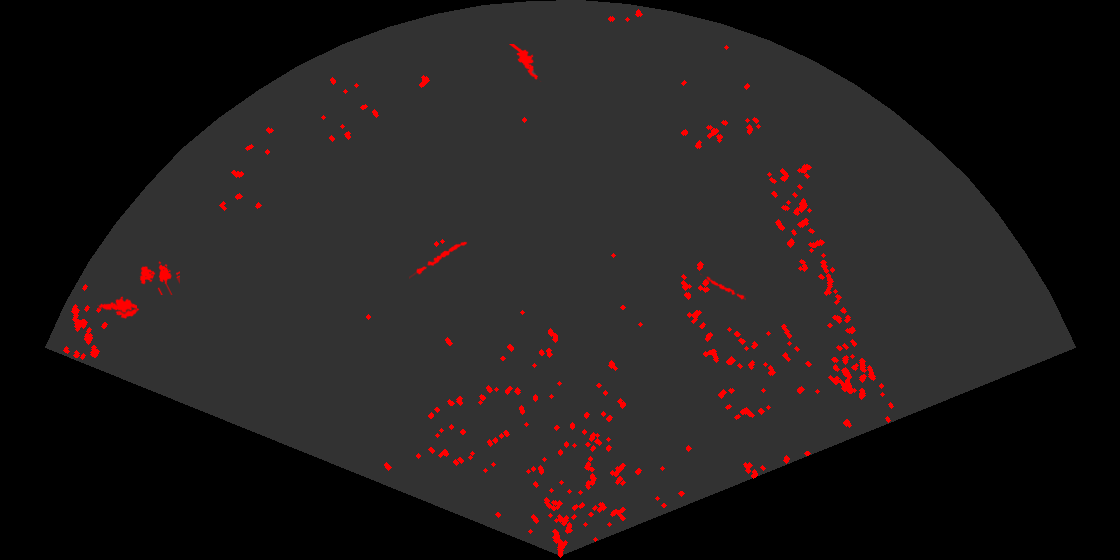AUV: (114, 305, 141, 320)
cage: (138, 260, 180, 295)
chain: (409, 240, 469, 279), (700, 273, 746, 302)
frogman: (509, 44, 543, 82), (97, 295, 137, 315)
